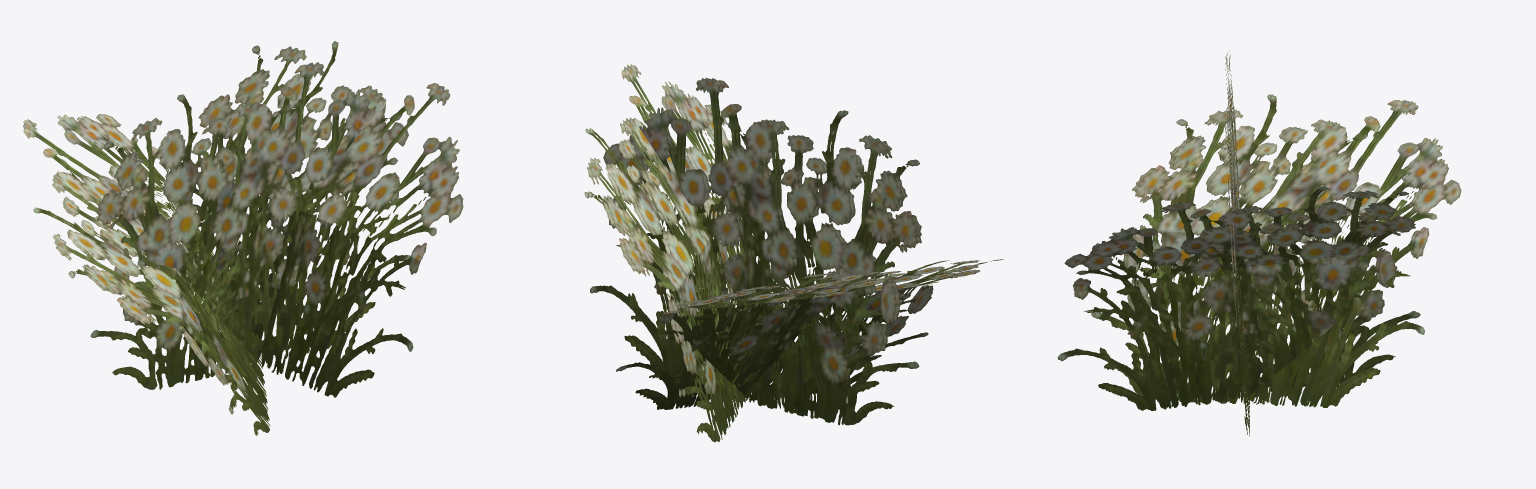
Rendered from grass_01.fbx.
The picture shows the model from 3 angles, left to right: view 1: azimuth 30°, elevation 25°; view 2: azimuth 150°, elevation 25°; view 3: azimuth 270°, elevation 25°; orthographic projection.
Parts seen in each view (by area): view 1: Grass_01; view 2: Grass_01; view 3: Grass_01.
Part boxes in pixels (<box>): Grass_01: <box>23,41,463,435</box>; Grass_01: <box>584,64,1003,442</box>; Grass_01: <box>1057,50,1461,436</box>.
Size of the model in its own units: 2.92 by 2.15 by 2.74.
